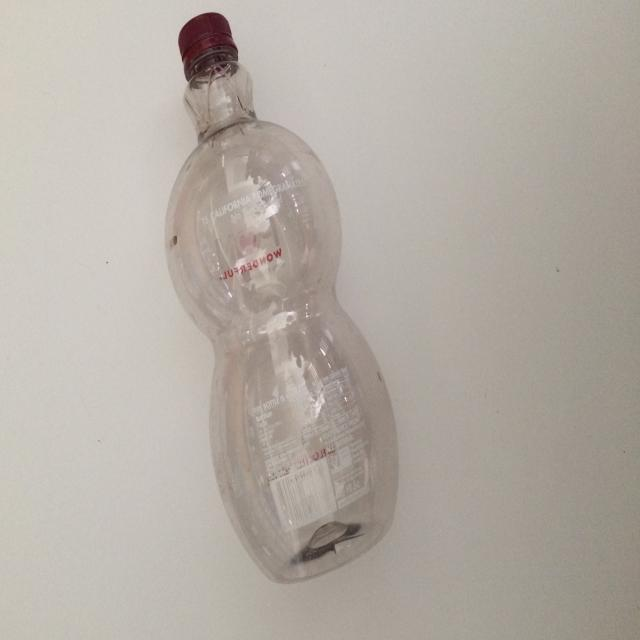plastic: (163, 11, 400, 584)
